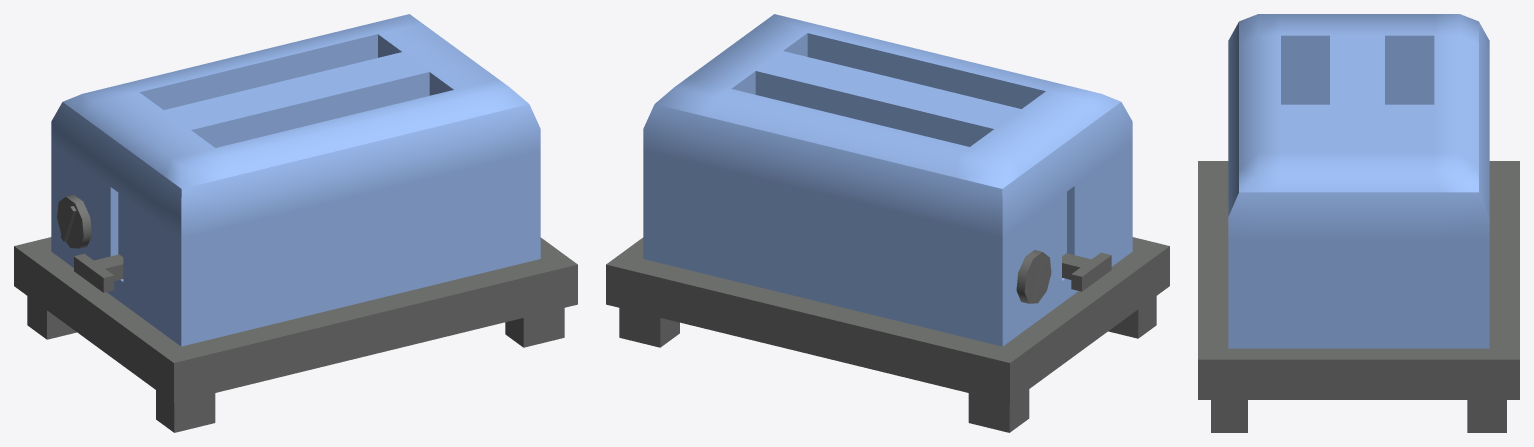
Rendered from Cocina_Tostador_22.fbx.
3 views of the same model, side by side, from view 1: azimuth 30°, elevation 25°; view 2: azimuth 150°, elevation 25°; view 3: azimuth 270°, elevation 25° (orthographic).
Parts seen in each view (by area): view 1: tostador base; view 2: tostador base; view 3: tostador base.
Part boxes in pixels (left/top/right/bottom): tostador base: left=14, top=14, right=577, bottom=432; tostador base: left=606, top=14, right=1169, bottom=432; tostador base: left=1198, top=14, right=1519, bottom=432.
Size of the model in its own units: 36.02 by 20.23 by 24.32.
2 materials, 2 textured.
